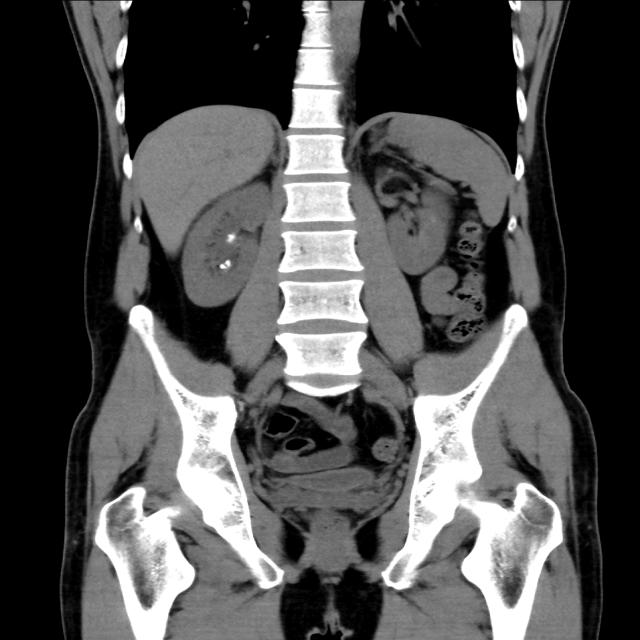kidneystone: (219, 259, 232, 270), (226, 232, 236, 242)
